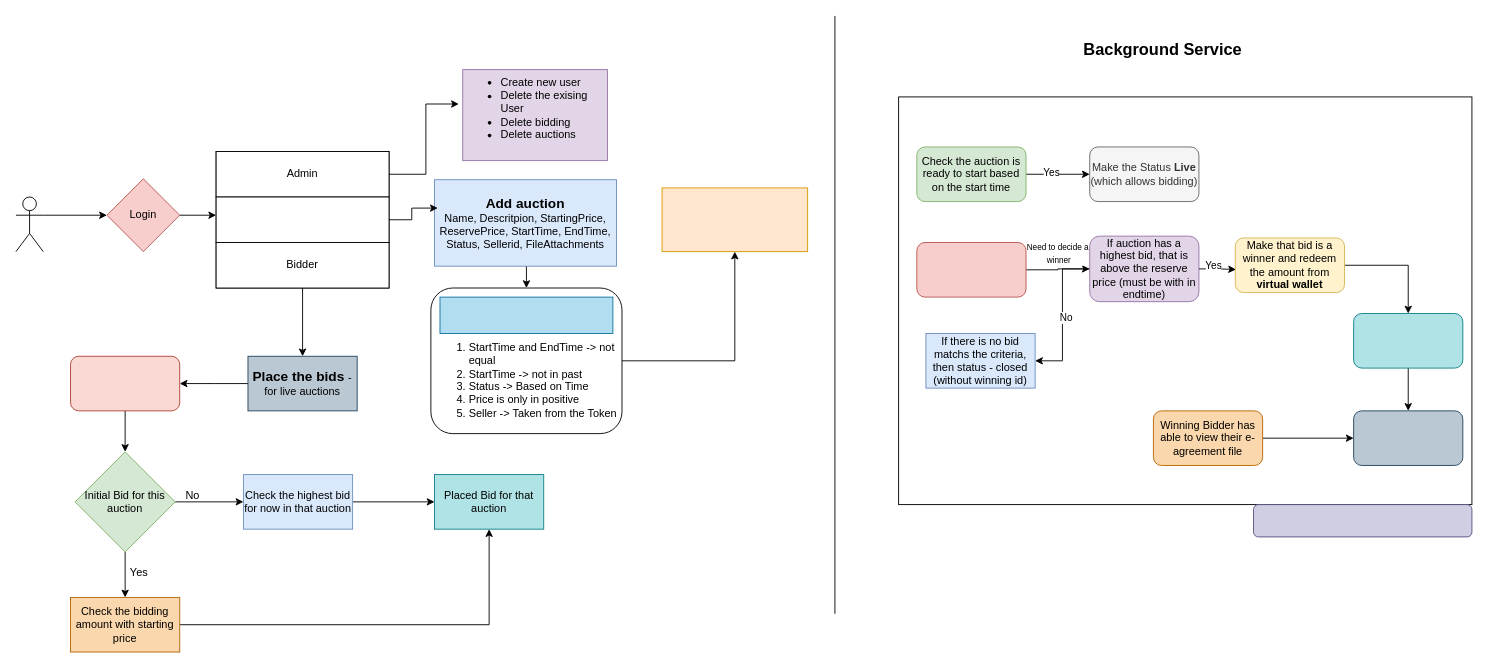
The diagram is 1488 pixels wide and 668 high, and some of its shapes have lost their labels. The centre of each missing label's shape, as x and y in pixels:
Auction Created: pixel 734 219
Check if the auction is end: pixel 971 269
Check there is a enough balance in their virtual wallet: pixel 125 383
EAgreement is created with auction details and bidding details and stored: pixel 1408 437
Make status - completed and set the winner Id from bidding: pixel 1408 340
Run the check for every minute: pixel 1362 520
Seller: pixel 302 219
User: pixel 29 224
Validation Check: pixel 526 315
